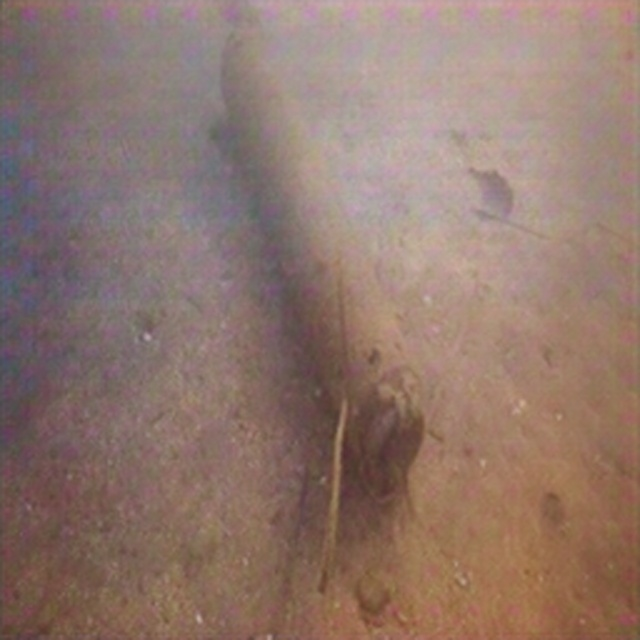mine: (218, 22, 427, 504)
